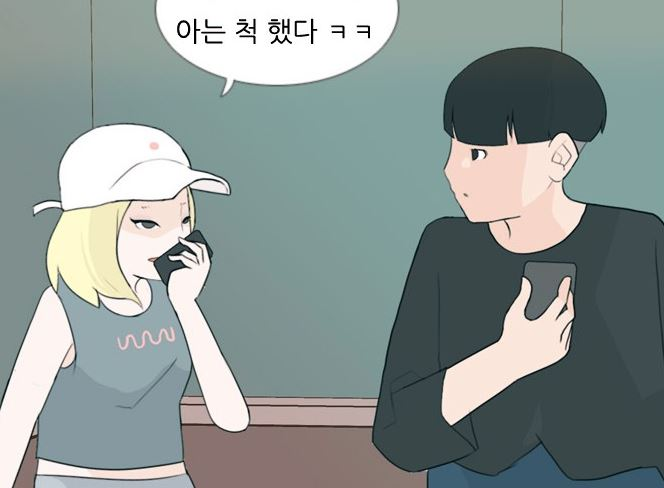hat: (56, 122, 233, 211)
